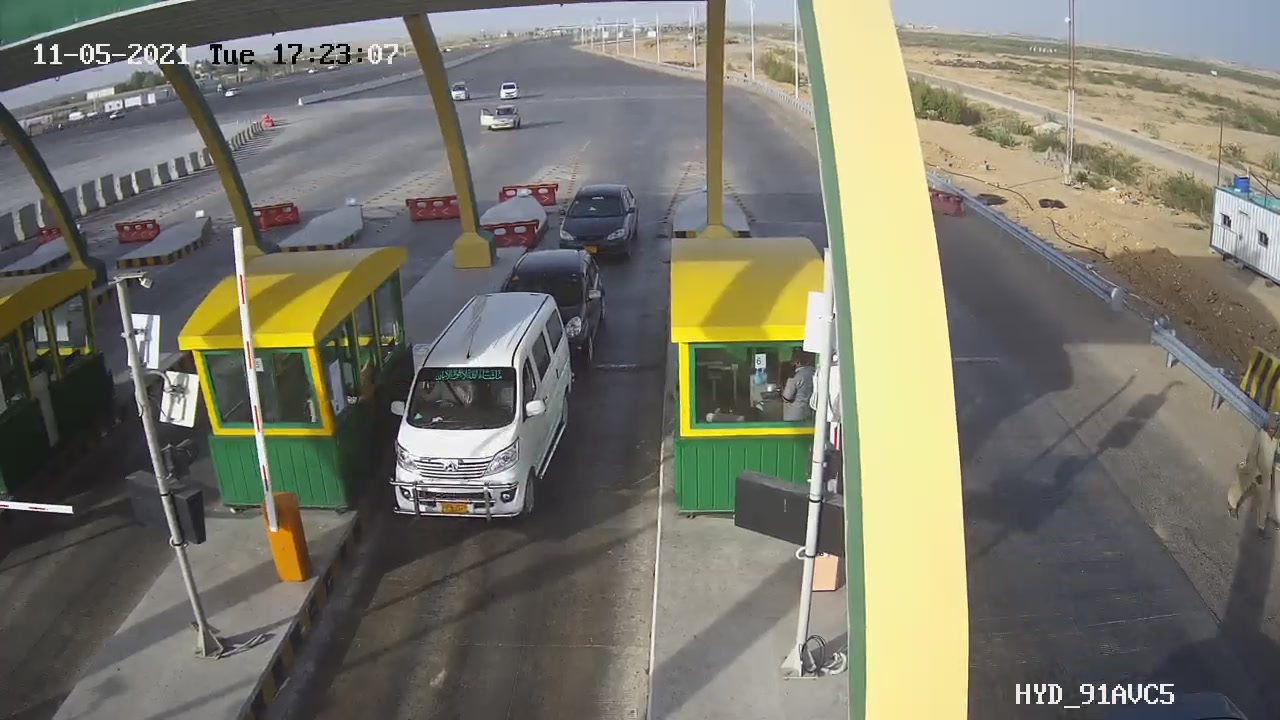F1: (376, 278, 598, 542)
